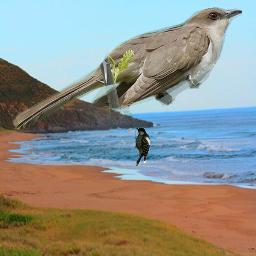Cuckoo: (11, 6, 242, 130)
Woodpecker: (135, 127, 150, 166)
